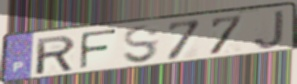7: (167, 18, 203, 62), (209, 14, 245, 57)
F: (78, 28, 120, 71)
J: (252, 9, 286, 50)
R: (35, 34, 78, 77)
S: (122, 24, 160, 65)
